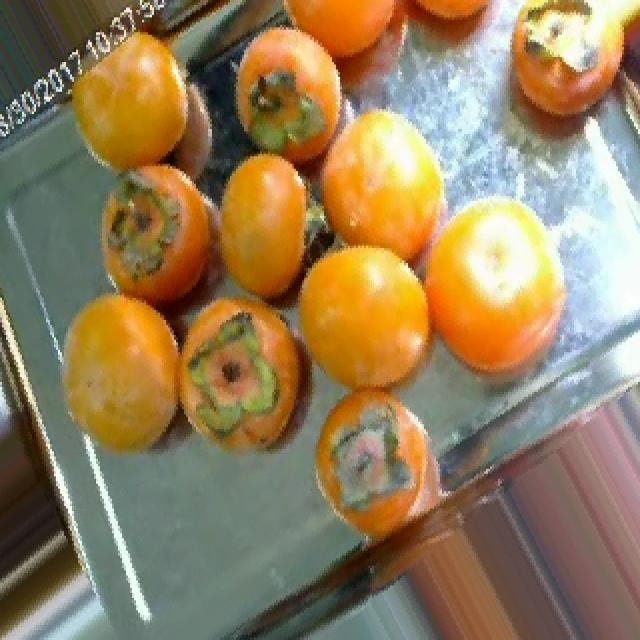Fruit: (40, 268, 214, 491), (46, 10, 224, 206), (200, 126, 320, 330)
